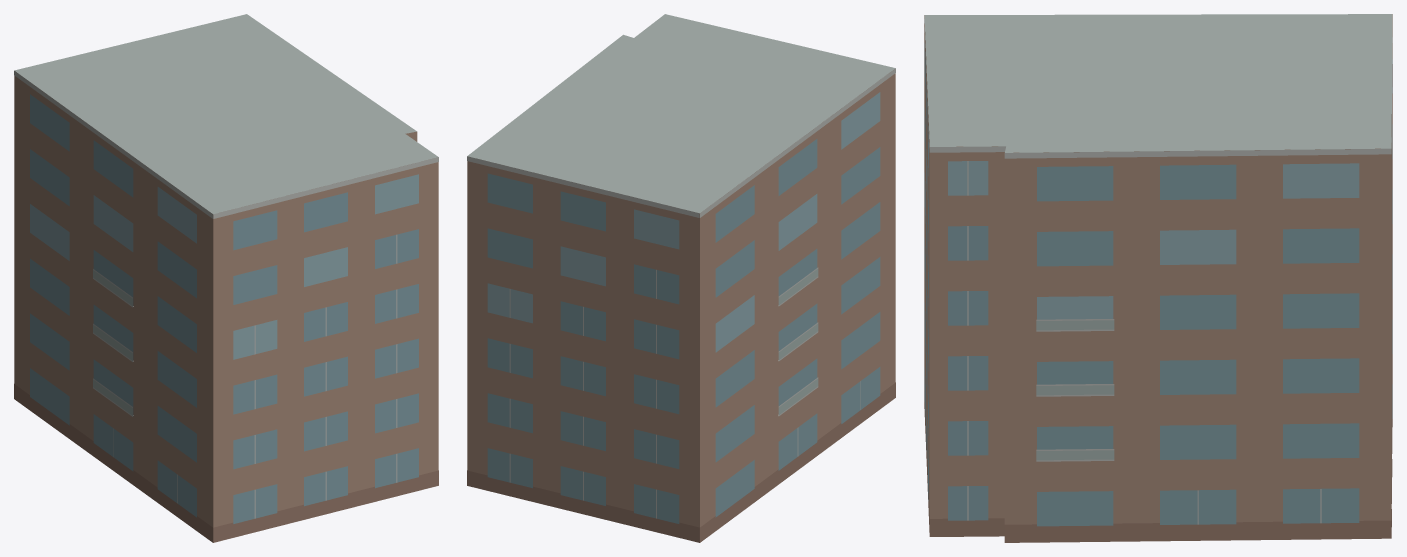
File: survey-upis-32995425.glb
3 views of the same model, side by side, from view 1: azimuth 30°, elevation 25°; view 2: azimuth 150°, elevation 25°; view 3: azimuth 270°, elevation 25° (orthographic). The views are drawn at different scales.
Visible parts, largest first — view 1: survey-upis-32995425.tmp; view 2: survey-upis-32995425.tmp; view 3: survey-upis-32995425.tmp.
Boxes of the visible parts, x1,y1,x2,y2 form: survey-upis-32995425.tmp: [14, 14, 438, 542]; survey-upis-32995425.tmp: [467, 14, 895, 542]; survey-upis-32995425.tmp: [924, 14, 1392, 542].
Bounding box in the file's own units: 12.69 × 16.6 × 18.07.
